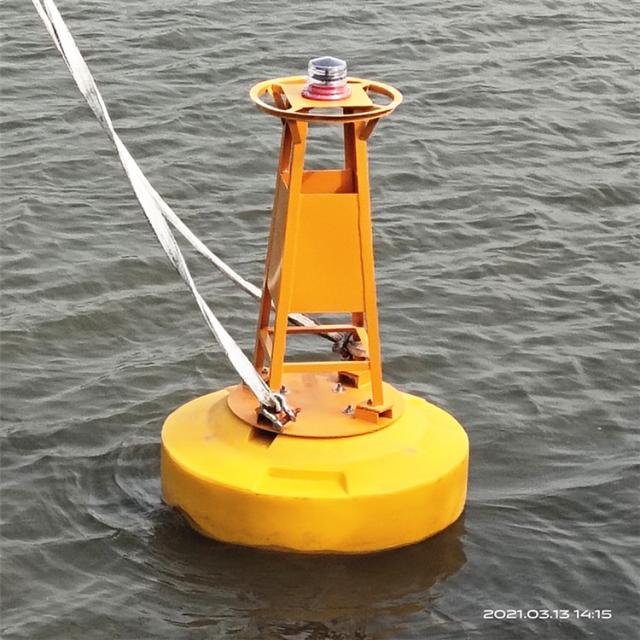buoy: (145, 54, 476, 547)
